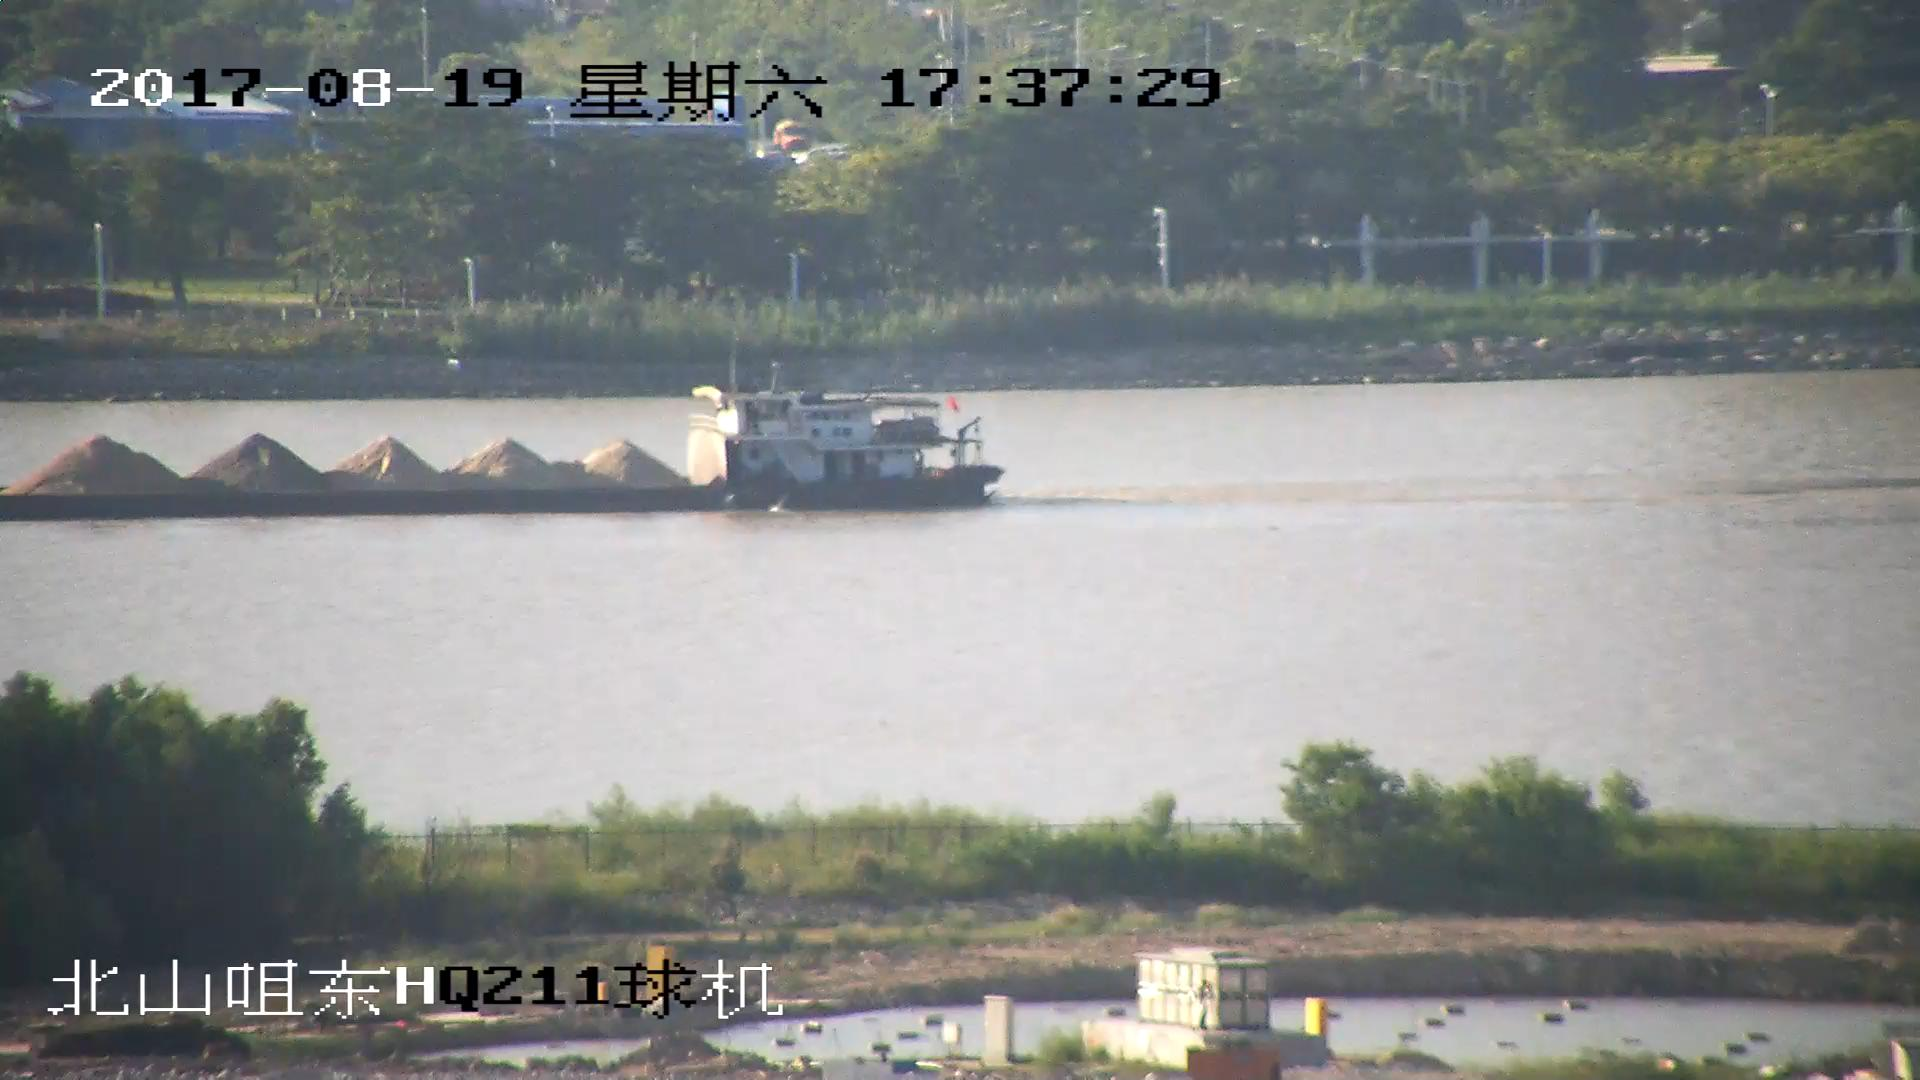ore carrier: (1, 326, 1000, 516)
